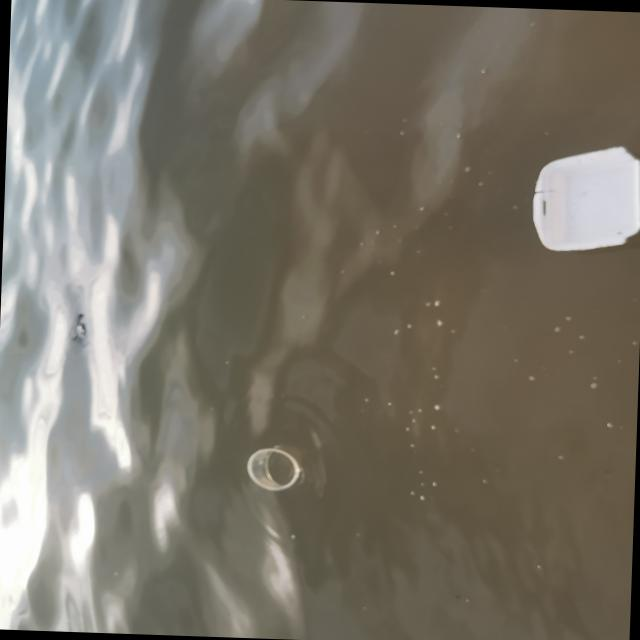foam: (527, 132, 640, 263)
